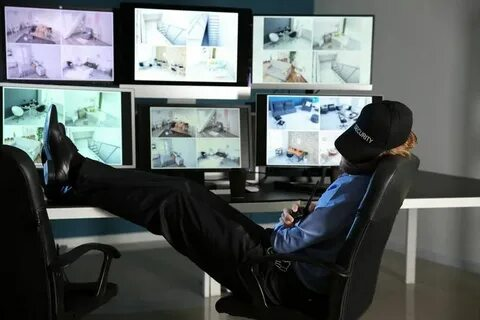sleep: (40, 100, 416, 308)
